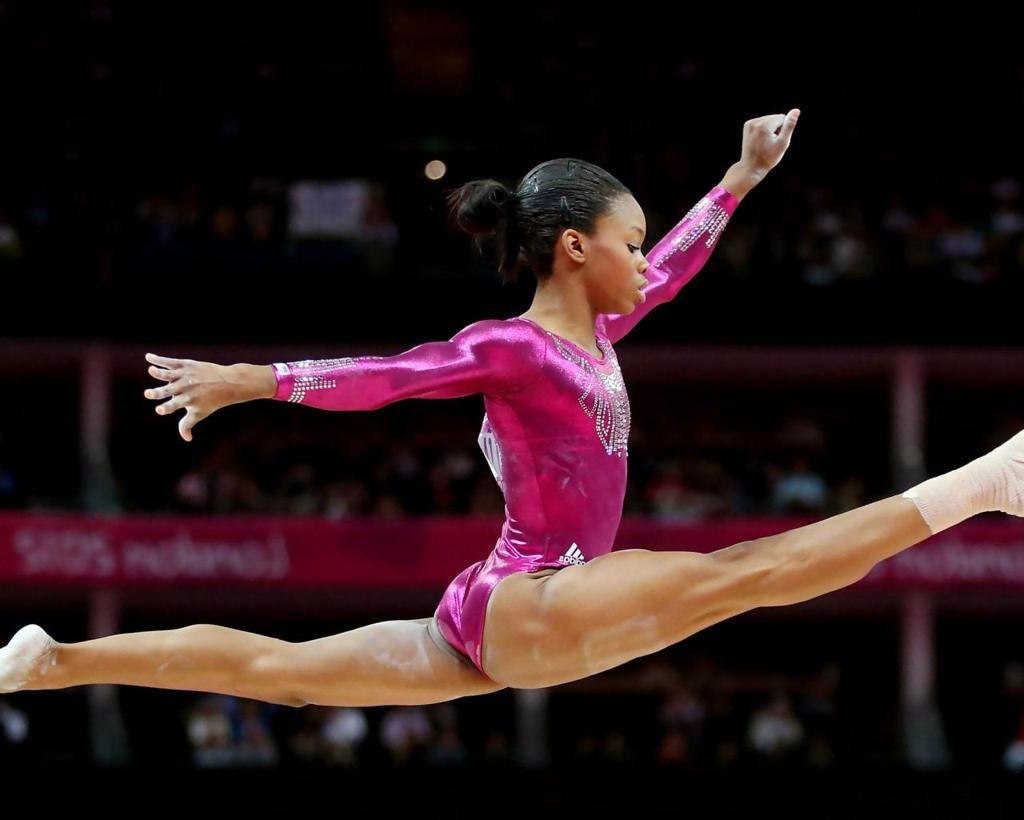face: (585, 195, 655, 321)
